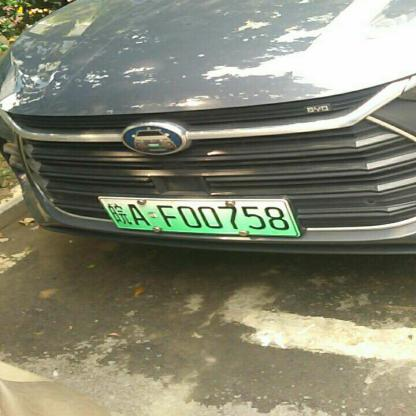lp: (98, 194, 299, 235)
